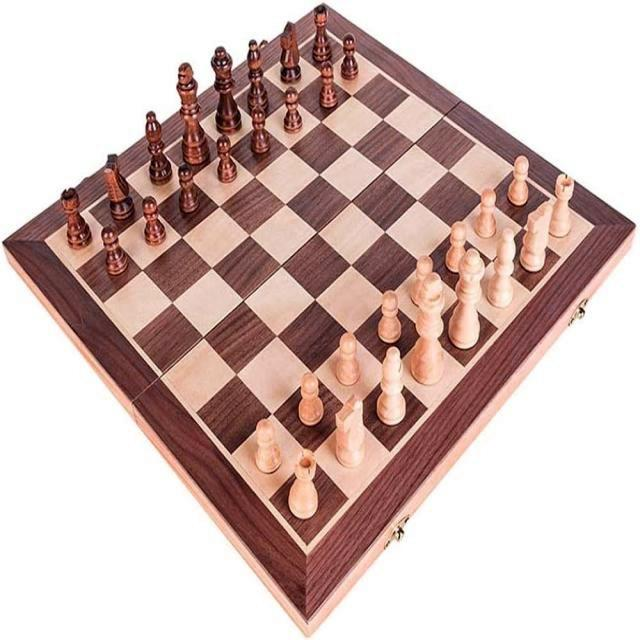chess-table-corners: (290, 528, 324, 572), (35, 223, 62, 260), (576, 213, 604, 247)
